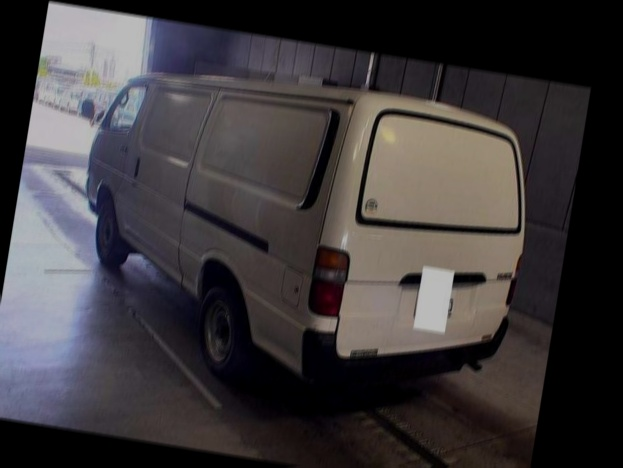van: (56, 51, 548, 412)
